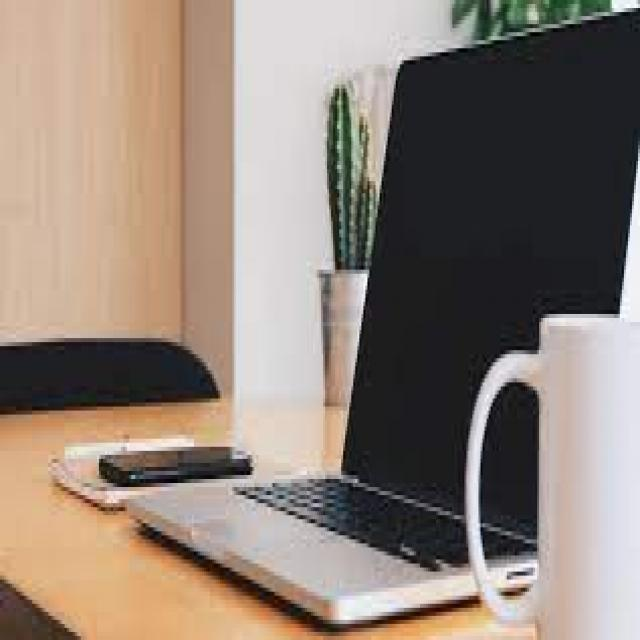others: (44, 4, 640, 640)
